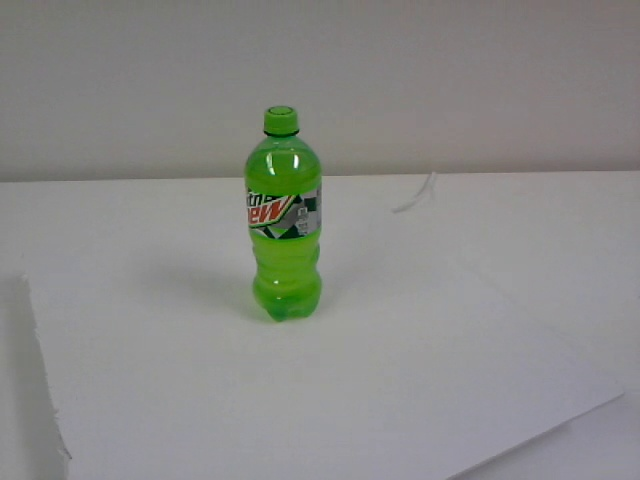botolplastik: (246, 107, 321, 319)
